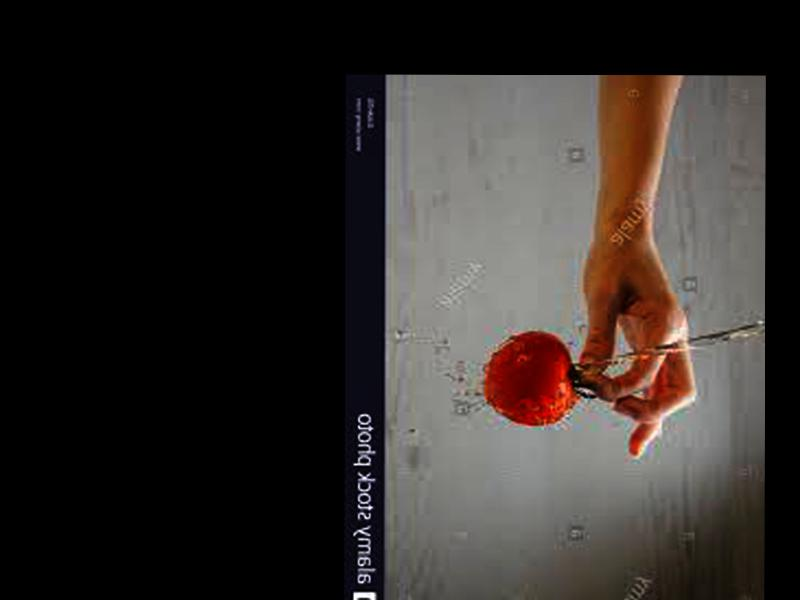Tomato: (482, 328, 574, 423)
